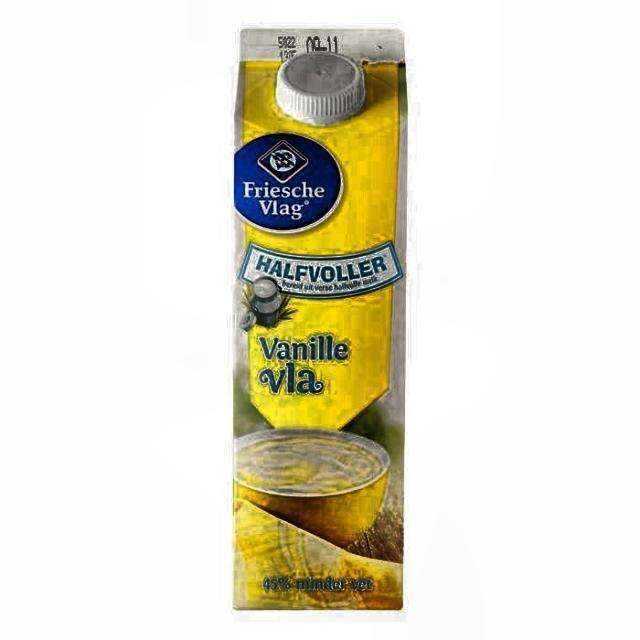cardboard: (231, 27, 407, 610)
